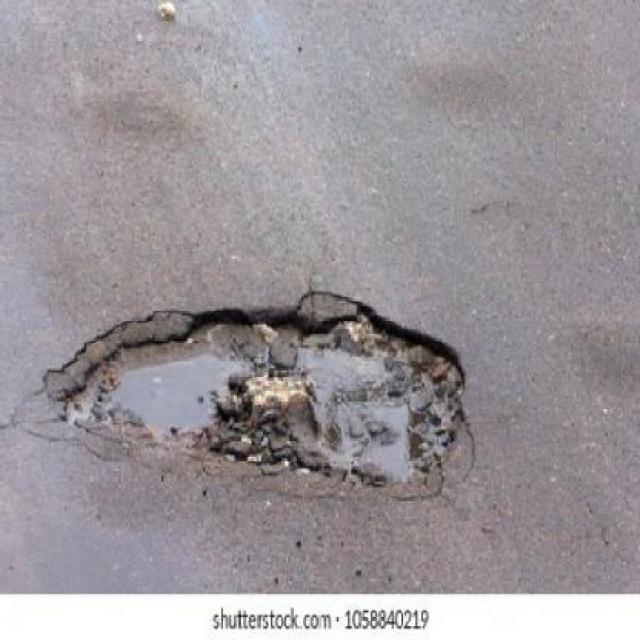Pothole: (39, 292, 464, 503)
